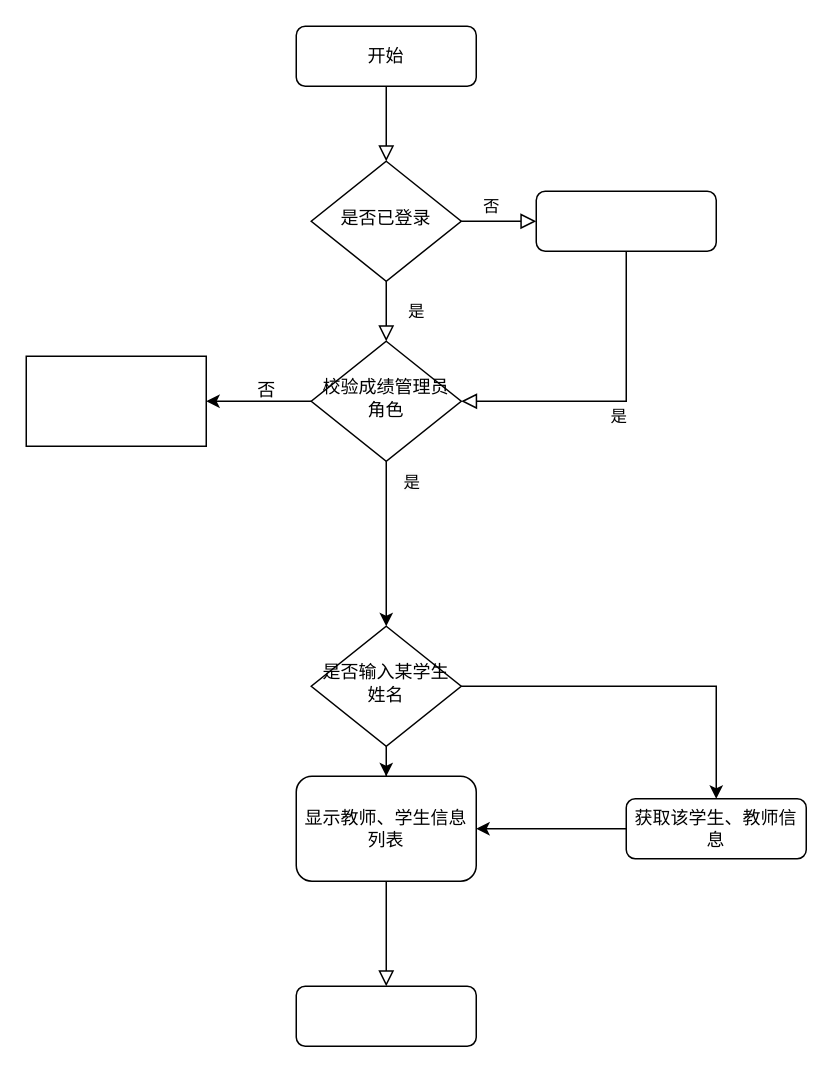
Some shapes in this 833 by 1073 pixel diagram are drawn without their labels. Each missing label, with the centre of its shape:
"判断所属角色显示对应页面" belongs at point (115, 400).
"登录" belongs at point (625, 220).
"结束" belongs at point (385, 1015).
